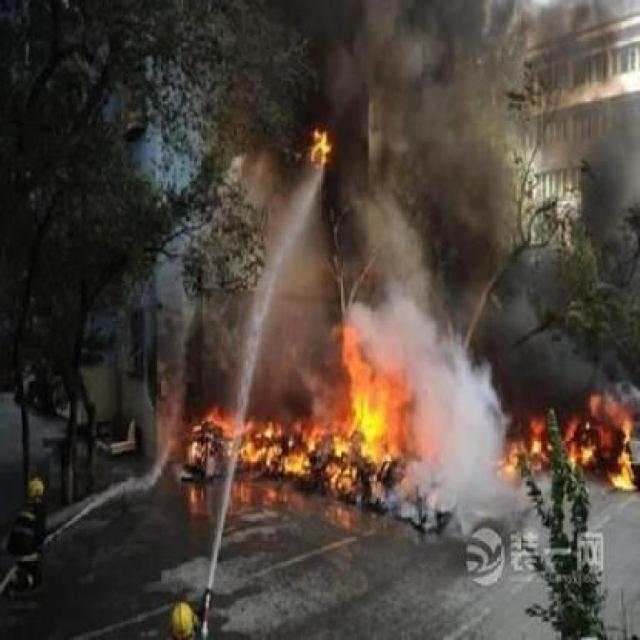Fire: (178, 320, 408, 511), (502, 387, 640, 493), (302, 126, 334, 176)
Smoke: (322, 14, 540, 342)
